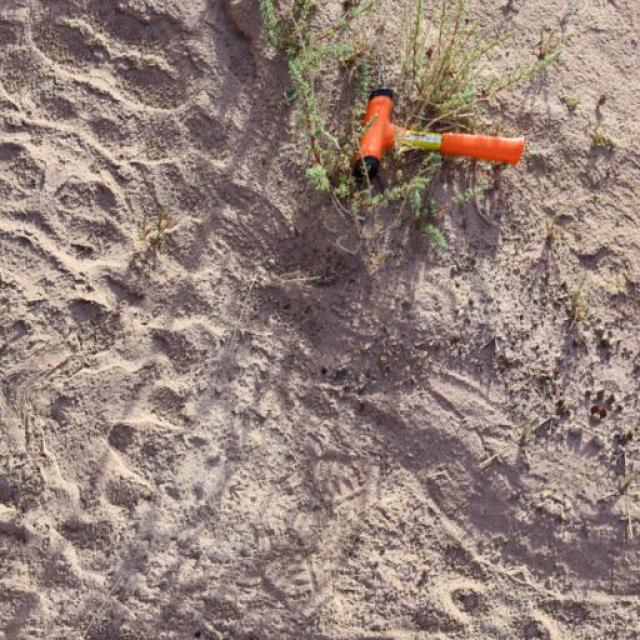mallet: (349, 86, 525, 180)
